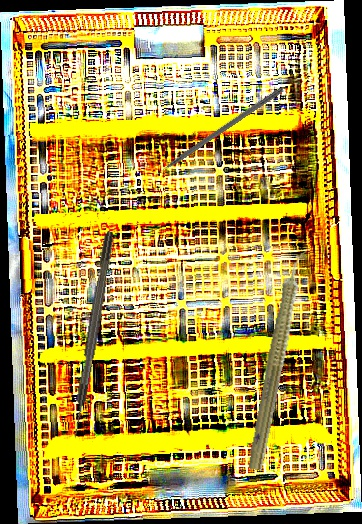Handpiece: (243, 243, 315, 473)
Hook Surgical: (145, 85, 285, 182), (68, 230, 117, 440)
